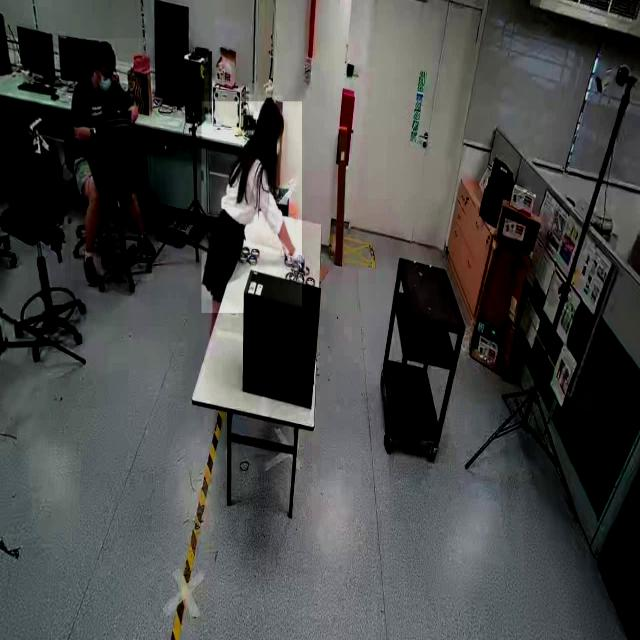face_mask: (96, 63, 118, 93)
head_nohelmet: (257, 95, 283, 128), (93, 40, 115, 63)
person: (202, 101, 302, 314), (71, 38, 154, 281)
shoes: (133, 226, 161, 264), (81, 253, 102, 297)
